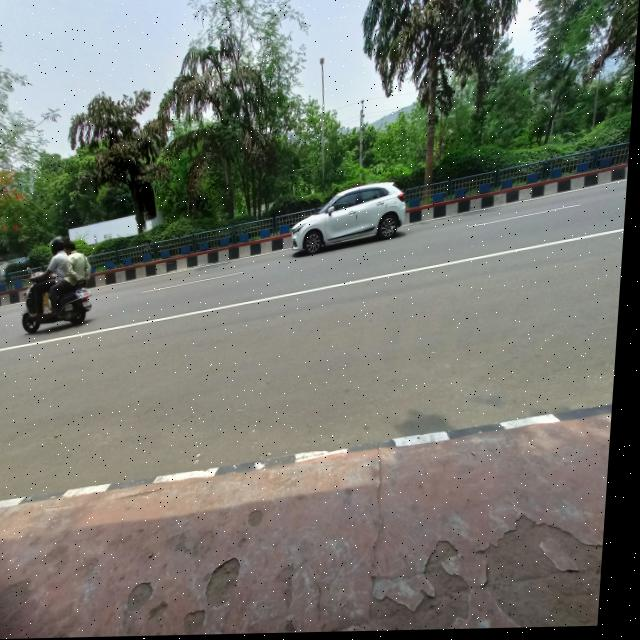bike: (20, 266, 107, 347)
car: (275, 180, 426, 259)
